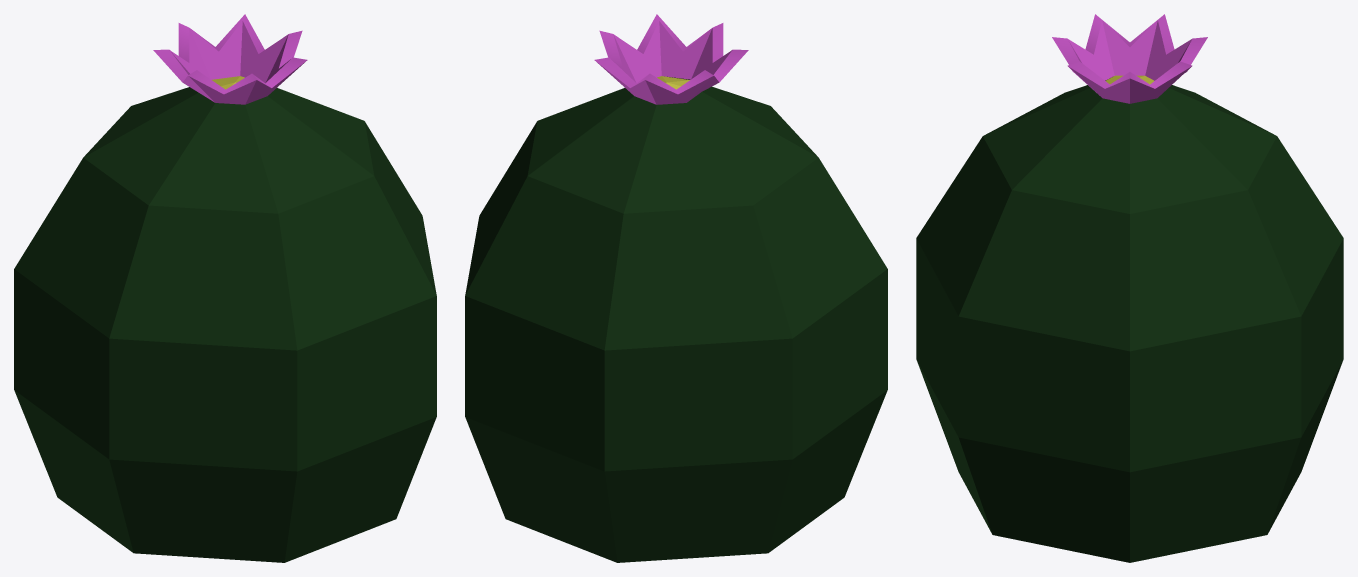
Rendered from cactus2.fbx.
3 views of the same model, side by side, from view 1: azimuth 30°, elevation 25°; view 2: azimuth 150°, elevation 25°; view 3: azimuth 270°, elevation 25° (orthographic).
Parts seen in each view (by area): view 1: pPipe3; view 2: pPipe3; view 3: pPipe3.
Part boxes in pixels (x1,y1,x2,y2): pPipe3: (14,14,436,562); pPipe3: (465,14,887,562); pPipe3: (916,14,1343,562).
Bounding box in the file's own units: 1.85 × 2.18 × 1.9.
